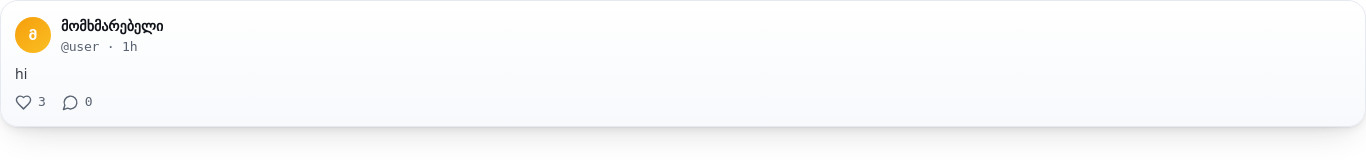
Test: GroupPost › toggles a local like and increments the shown count
This screenshot has width=1366, height=160.
What coordinates should you click on to do the following:
click the button "3"
I would click on:
 (30, 102)
Its box is [15, 92, 46, 112].
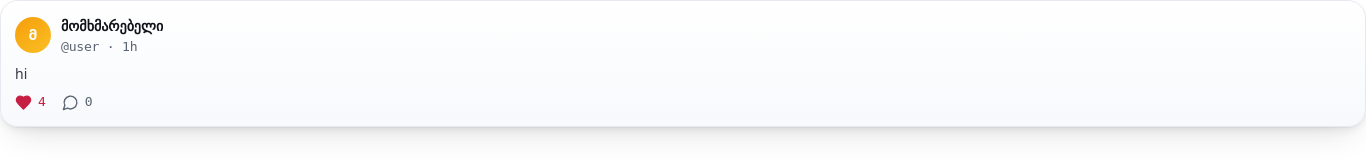
Check: the text "4" is shown, box [38, 92, 46, 112]
